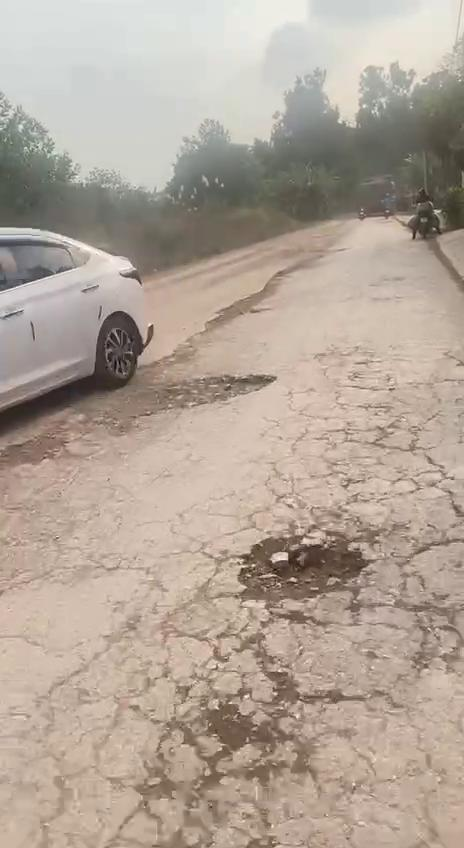pothole: (186, 669, 318, 777), (235, 529, 373, 607), (140, 368, 292, 410), (0, 422, 75, 474)
